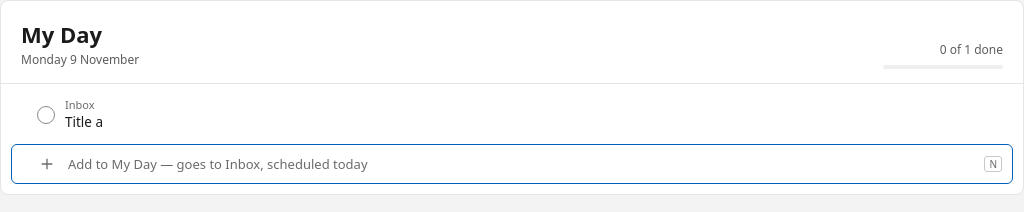
it: add field › adding "Order a spare SMA torque wrench" posts inbox + today and clears the field
The width and height of the screenshot is (1024, 212).
Check: the text "Monday 9 November" is shown, box x1=21 y1=52 x2=139 y2=69
Check: the text "Title a" is shown, box x1=65 y1=113 x2=103 y2=132
Type "Order a spare SMA torque wrench" into the field named "Add to My Day". click: (519, 164)
box: x1=66 y1=154 x2=972 y2=174
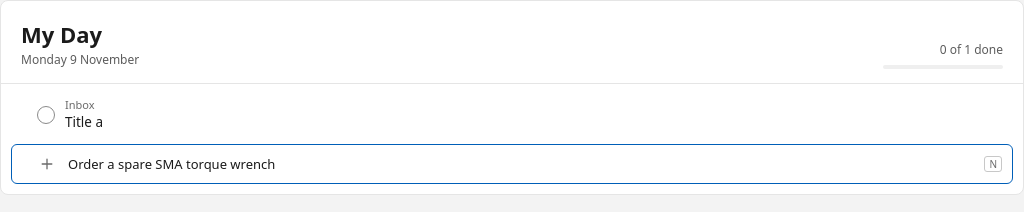
Press Enter in the field named "Add to My Day", box x1=66 y1=154 x2=972 y2=174
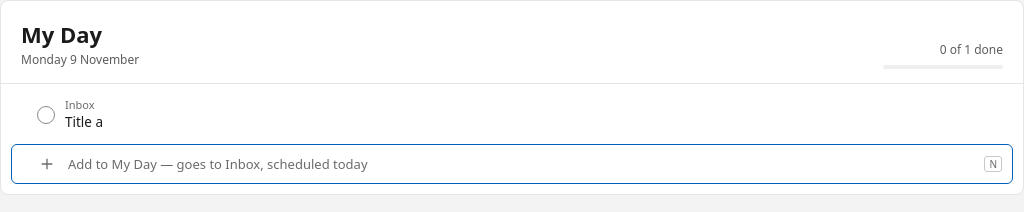
Check: the field named "Add to My Day" is empty, box x1=66 y1=154 x2=972 y2=174
